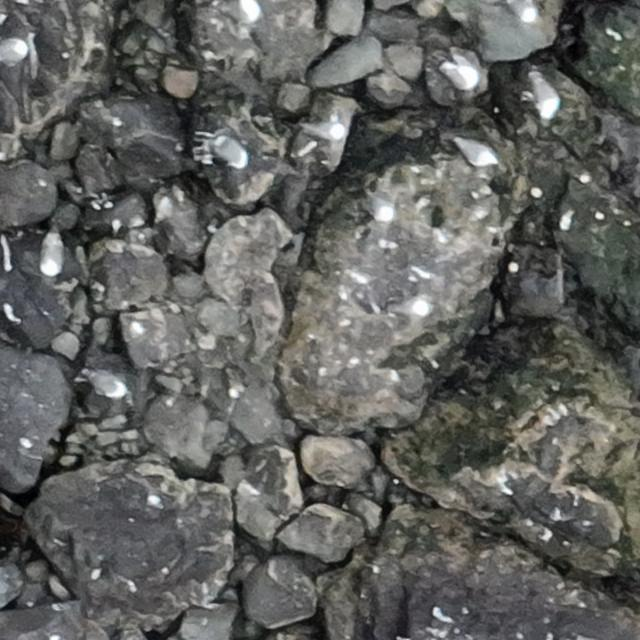umineko: (533, 75, 559, 120), (457, 138, 498, 166), (217, 0, 260, 25), (89, 372, 130, 398), (392, 296, 438, 319), (41, 234, 65, 275), (218, 136, 247, 169), (297, 120, 344, 140), (441, 63, 477, 89), (1, 39, 27, 68), (370, 198, 395, 222), (512, 1, 538, 22)
